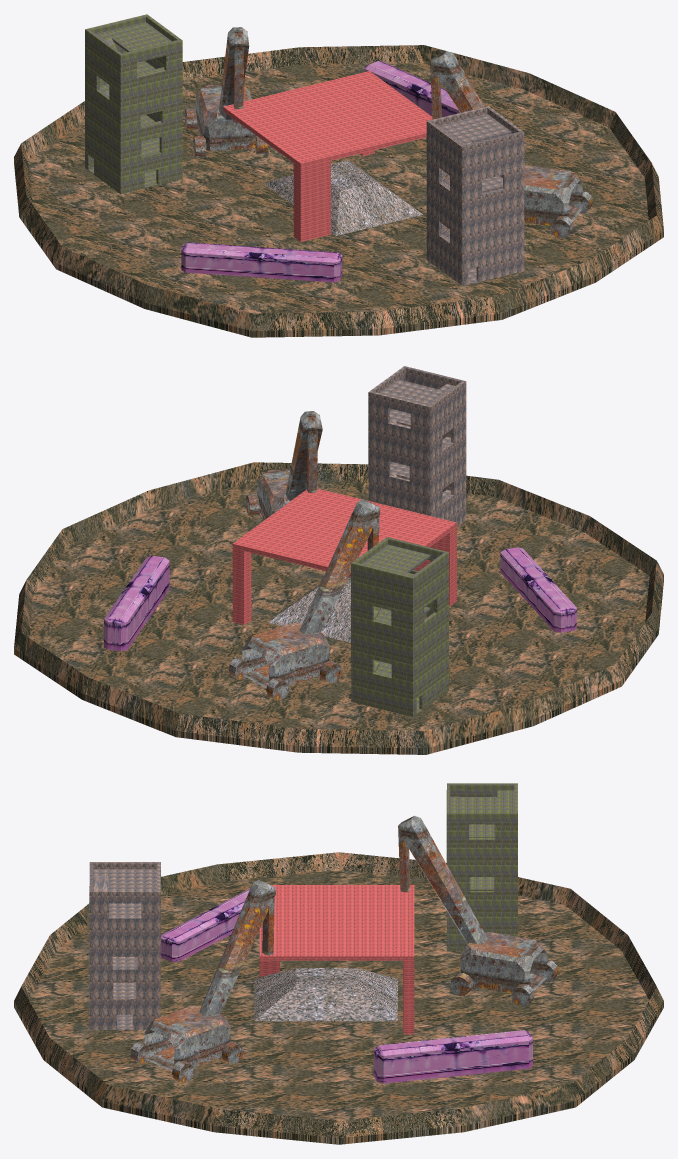
File: Ground.FBX
The picture shows the model from 3 angles, top to bottom: view 1: azimuth 30°, elevation 25°; view 2: azimuth 150°, elevation 25°; view 3: azimuth 270°, elevation 25°; orthographic projection.
Parts seen in each view (by area): view 1: ground, Building001, Building, asiba, crane, crane001, Box003, hill, Box004; view 2: ground, Building, Building001, asiba, crane001, crane, Box004, Box003, hill; view 3: ground, asiba, Building001, Building, crane, crane001, hill, Box004, Box003.
Boxes of the visible parts, x1=… form: ground: x1=14, y1=45, x2=663, y2=337; Building001: x1=426, y1=106, x2=524, y2=285; Building: x1=85, y1=14, x2=182, y2=193; asiba: x1=223, y1=71, x2=432, y2=241; crane: x1=430, y1=51, x2=592, y2=238; crane001: x1=184, y1=27, x2=267, y2=157; Box003: x1=181, y1=242, x2=342, y2=282; hill: x1=264, y1=160, x2=423, y2=235; Box004: x1=365, y1=60, x2=459, y2=117; ground: x1=14, y1=462, x2=663, y2=754; Building: x1=351, y1=537, x2=448, y2=716; Building001: x1=368, y1=366, x2=466, y2=526; asiba: x1=232, y1=488, x2=456, y2=624; crane001: x1=228, y1=499, x2=380, y2=700; crane: x1=245, y1=411, x2=322, y2=519; Box004: x1=104, y1=555, x2=169, y2=651; Box003: x1=500, y1=547, x2=576, y2=632; hill: x1=267, y1=577, x2=350, y2=642; ground: x1=14, y1=852, x2=663, y2=1144; asiba: x1=259, y1=885, x2=414, y2=1034; Building001: x1=89, y1=862, x2=160, y2=1029; Building: x1=446, y1=783, x2=517, y2=951; crane: x1=130, y1=879, x2=275, y2=1083; crane001: x1=398, y1=815, x2=558, y2=1006; hill: x1=254, y1=968, x2=397, y2=1021; Box004: x1=374, y1=1030, x2=532, y2=1083; Box003: x1=160, y1=888, x2=250, y2=961.
Bounding box in the file's own units: 9132 × 9132 × 2466.
Materials: 8 (8 with a texture image).
